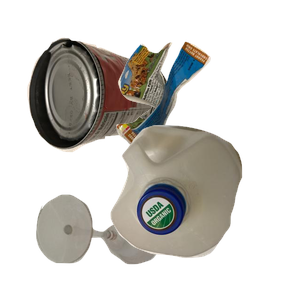glass: (34, 192, 187, 300)
metal: (25, 35, 189, 180)
plastic: (108, 123, 300, 300)
trash: (114, 39, 300, 188)
